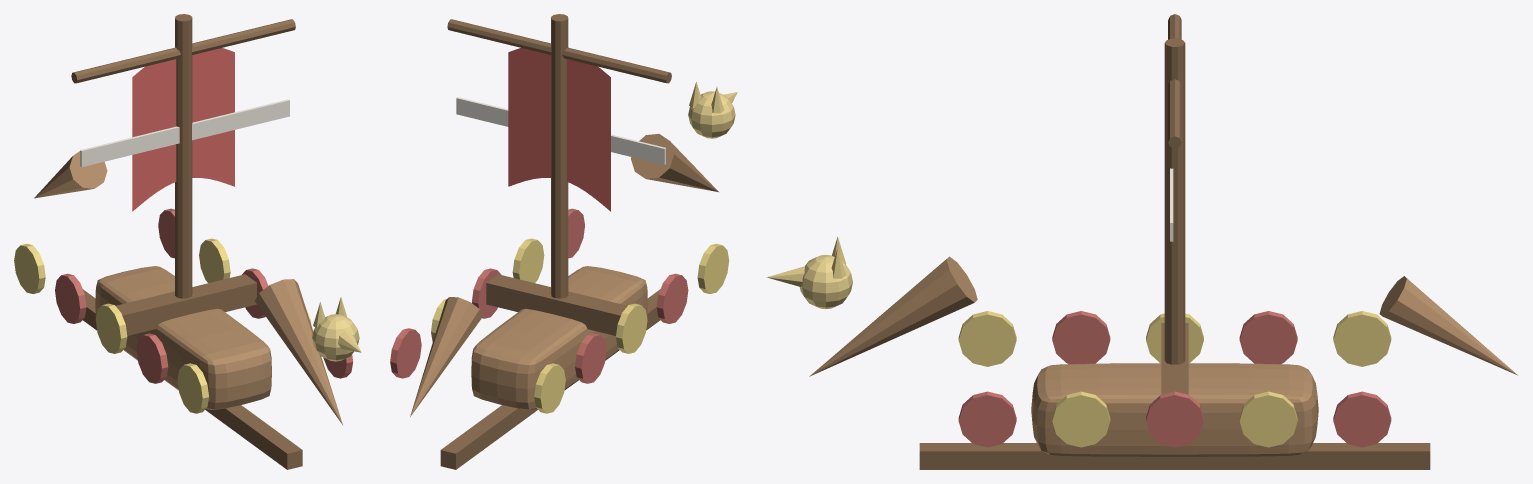
Rendered from the-ankyor-80c722.glb.
The picture shows the model from 3 angles, left to right: view 1: azimuth 30°, elevation 25°; view 2: azimuth 150°, elevation 25°; view 3: azimuth 270°, elevation 25°; orthographic projection. The views are drawn at different scales.
Parts seen in each view (by area): view 1: Cube, Grid, Cylinder, Cube.002, Cone, Cube.003, Cube.001, Cylinder.001, Cone.001, Sphere, Cylinder.002, Cylinder.004 (+7 smaller); view 2: Grid, Cube, Cylinder, Cube.002, Cone.001, Cube.001, Cylinder.001, Cone, Cube.003, Sphere, Cylinder.008, Cylinder.011 (+7 smaller); view 3: Cube, Cube.001, Cylinder, Cone, Cone.001, Cylinder.003, Cylinder.009, Cylinder.011, Cylinder.005, Cylinder.007, Cylinder.002, Cylinder.010 (+6 smaller).
Part boxes in pixels (<box>): Cube: <box>95,266,271,410</box>; Grid: <box>132,43,234,211</box>; Cylinder: <box>175,14,192,298</box>; Cube.002: <box>116,274,256,335</box>; Cone: <box>255,279,342,424</box>; Cube.003: <box>80,99,289,166</box>; Cube.001: <box>83,289,302,469</box>; Cylinder.001: <box>71,19,295,83</box>; Cone.001: <box>34,151,107,198</box>; Sphere: <box>312,314,359,361</box>; Cylinder.002: <box>177,363,208,413</box>; Cylinder.004: <box>136,333,168,383</box>; Grid: <box>508,43,610,211</box>; Cube: <box>471,266,647,410</box>; Cylinder: <box>551,14,568,298</box>; Cube.002: <box>486,274,627,335</box>; Cone.001: <box>410,297,483,416</box>; Cube.001: <box>440,289,660,469</box>; Cylinder.001: <box>447,19,671,83</box>; Cone: <box>631,134,718,192</box>; Cube.003: <box>456,97,665,164</box>; Sphere: <box>688,91,735,138</box>; Cylinder.008: <box>575,333,606,383</box>; Cylinder.011: <box>390,328,421,378</box>; Cube: <box>1031,363,1318,456</box>; Cube.001: <box>919,443,1430,469</box>; Cylinder: <box>1164,38,1185,364</box>; Cone: <box>809,256,977,376</box>; Cone.001: <box>1379,276,1517,375</box>; Cylinder.003: <box>958,391,1016,447</box>; Cylinder.009: <box>1239,391,1297,447</box>; Cylinder.011: <box>1333,391,1391,447</box>; Cylinder.005: <box>1052,391,1110,447</box>; Cylinder.007: <box>1146,391,1203,447</box>; Cylinder.002: <box>958,311,1016,366</box>; Cylinder.010: <box>1333,311,1391,366</box>.
Bounding box in the file's own units: 1.7 × 2.74 × 4.42.
